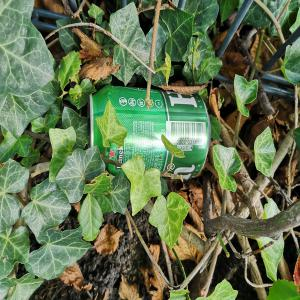Can: (86, 82, 214, 187)
